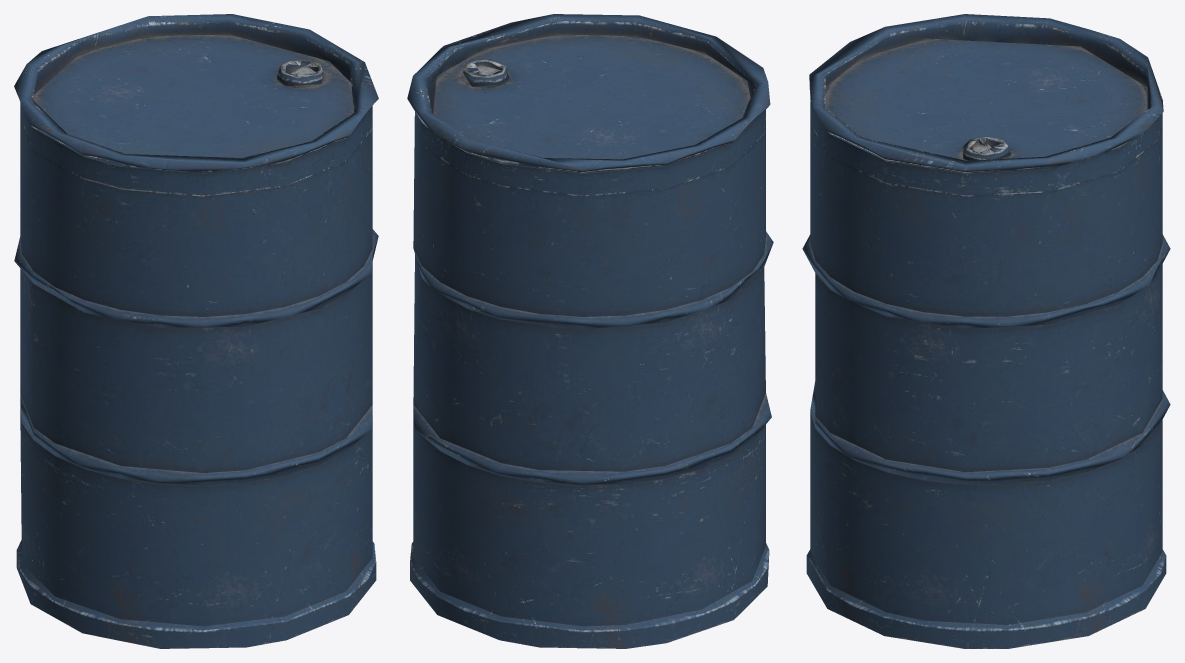
File: barrel.glb
3 views of the same model, side by side, from view 1: azimuth 30°, elevation 25°; view 2: azimuth 150°, elevation 25°; view 3: azimuth 270°, elevation 25° (orthographic).
Parts seen in each view (by area): view 1: barrel_03; view 2: barrel_03; view 3: barrel_03.
Part boxes in pixels (<box>): barrel_03: <box>14,14,378,648</box>; barrel_03: <box>407,14,773,648</box>; barrel_03: <box>802,14,1170,648</box>.
Size of the model in its own units: 0.6313 by 0.9305 by 0.6386.
Materials: 1 (1 with a texture image).
